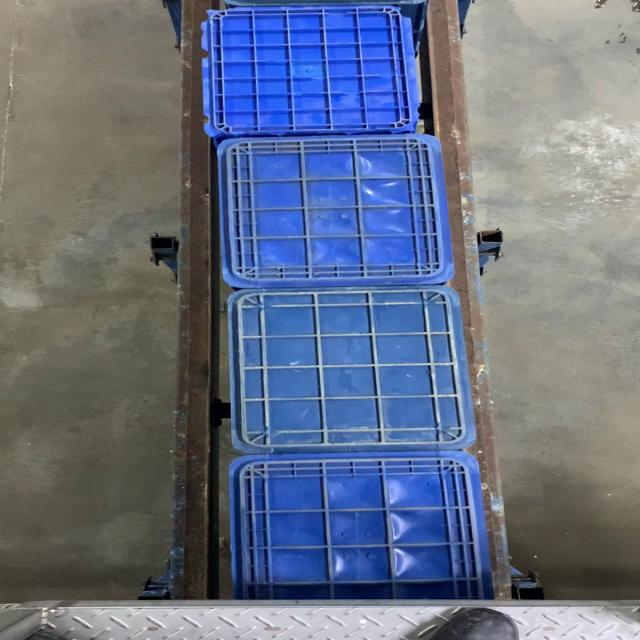Box: (226, 289, 476, 455), (216, 140, 459, 288)
Damged_box: (199, 5, 426, 139)
